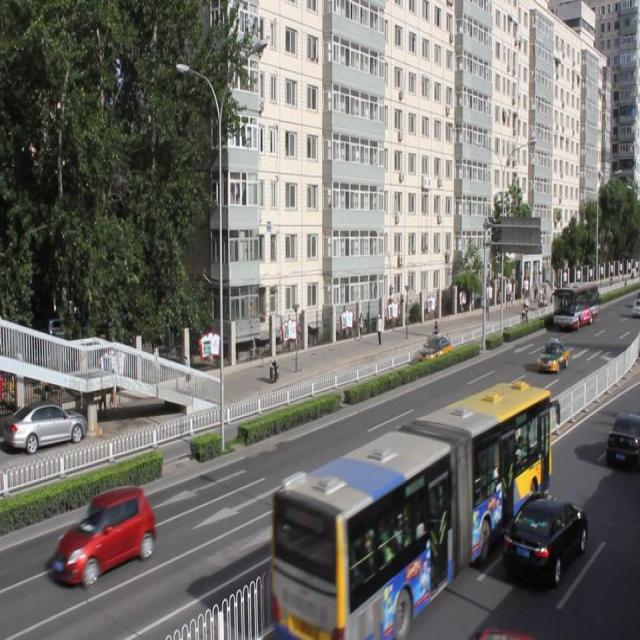car: (53, 483, 154, 581), (504, 492, 585, 583), (604, 409, 640, 467), (536, 337, 567, 373), (418, 333, 449, 362)
van: (271, 378, 547, 640)
